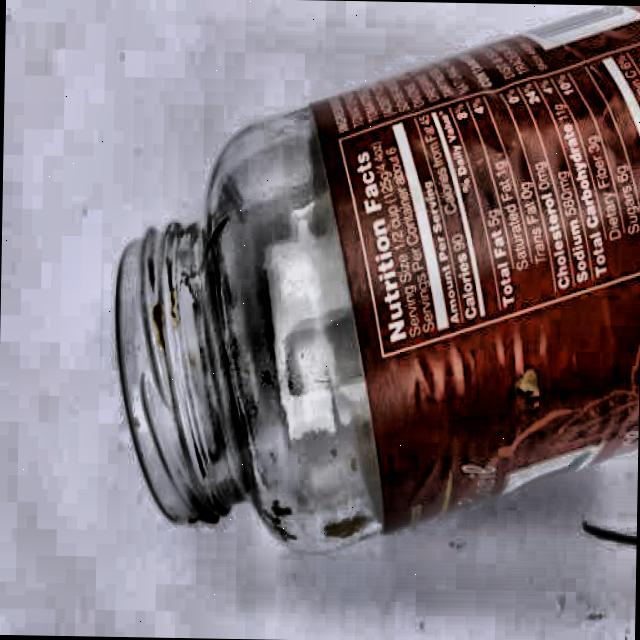glass: (111, 0, 640, 560)
